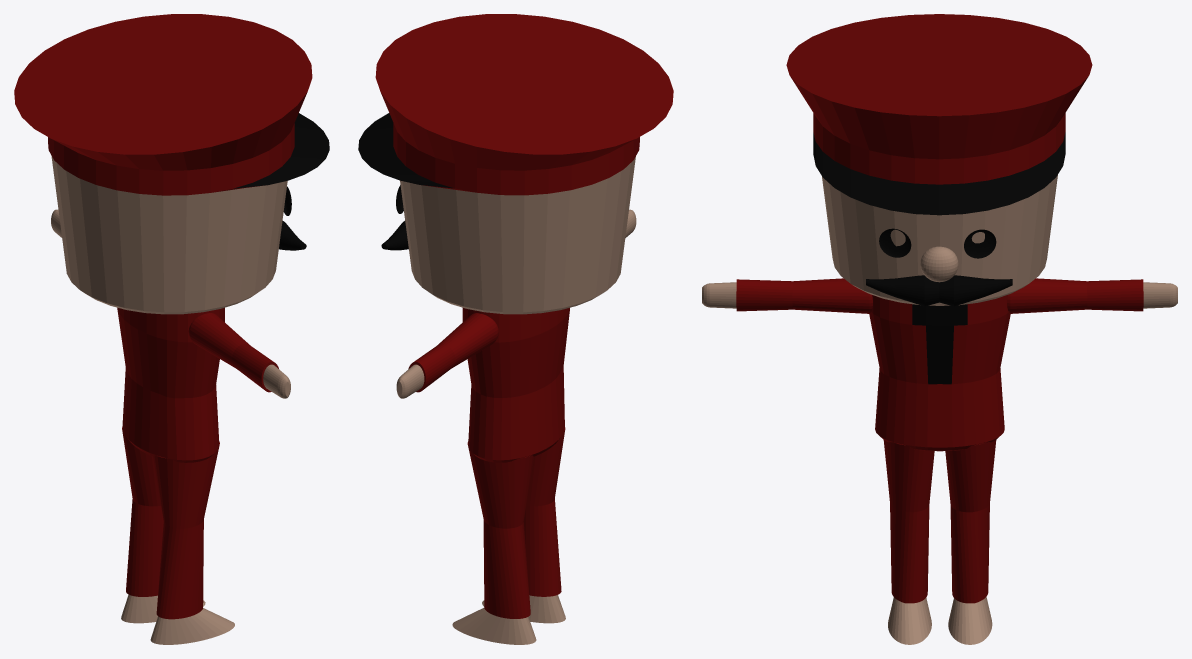
The model's file is red_bigstache.fbx.
3 renders of one model, left to right at view 1: azimuth 30°, elevation 25°; view 2: azimuth 150°, elevation 25°; view 3: azimuth 270°, elevation 25°, orthographic. The views are drawn at different scales.
Parts seen in each view (by area): view 1: Hat.001, Headd.002, Cylinder.049, Cylinder.052, Cylinder.053, Cylinder.050, Cylinder.047, Cylinder.038, Cylinder.055, Cylinder.017; view 2: Hat.001, Headd.002, Cylinder.049, Cylinder.053, Cylinder.052, Cylinder.051, Cylinder.038, Cylinder.047, Cylinder.056, Cylinder.017; view 3: Hat.001, Cylinder.049, Headd.002, Cylinder.053, Cylinder.052, Cylinder.051, Cylinder.050, Cylinder.017, Cylinder.038, Cylinder.047, Eyes.007, Sphere.002 (+2 smaller).
Part boxes in pixels (x1,y1,x2,y2): Hat.001: [14, 14, 329, 195]; Headd.002: [51, 155, 287, 314]; Cylinder.049: [117, 307, 224, 462]; Cylinder.052: [152, 442, 219, 619]; Cylinder.053: [122, 426, 163, 596]; Cylinder.050: [188, 313, 278, 392]; Cylinder.047: [150, 608, 234, 644]; Cylinder.038: [121, 594, 205, 623]; Cylinder.055: [263, 364, 290, 398]; Cylinder.017: [279, 221, 306, 250]; Hat.001: [358, 14, 673, 195]; Headd.002: [400, 156, 635, 314]; Cylinder.049: [462, 308, 569, 462]; Cylinder.053: [467, 441, 534, 618]; Cylinder.052: [523, 427, 565, 596]; Cylinder.051: [408, 313, 498, 392]; Cylinder.038: [452, 608, 536, 644]; Cylinder.047: [482, 595, 565, 623]; Cylinder.056: [396, 364, 424, 398]; Cylinder.017: [381, 221, 408, 250]; Hat.001: [786, 14, 1092, 215]; Cylinder.049: [869, 295, 1010, 451]; Headd.002: [822, 175, 1057, 305]; Cylinder.053: [945, 440, 996, 603]; Cylinder.052: [883, 440, 934, 603]; Cylinder.051: [1007, 278, 1143, 313]; Cylinder.050: [736, 278, 872, 313]; Cylinder.017: [866, 275, 1012, 306]; Cylinder.038: [948, 597, 992, 644]; Cylinder.047: [888, 597, 931, 644]; Eyes.007: [879, 228, 996, 258]; Sphere.002: [920, 246, 958, 282].
Bounding box in the file's own units: 239 × 453 × 346.
